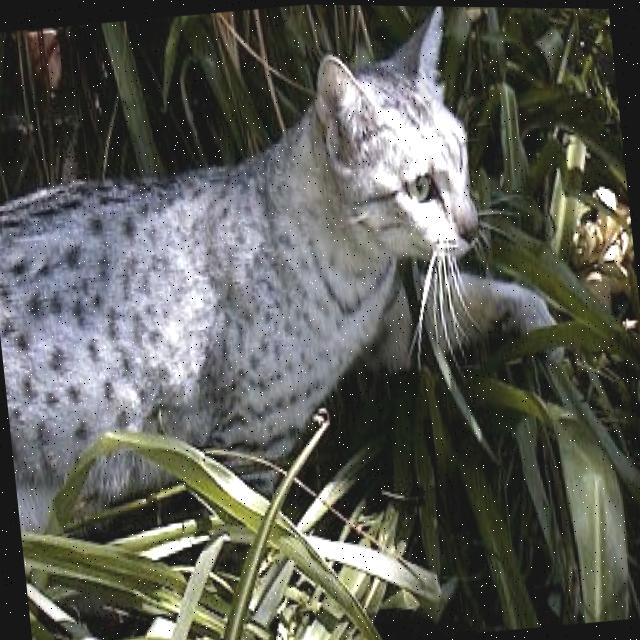Egyptian Mau: (0, 0, 592, 563)
